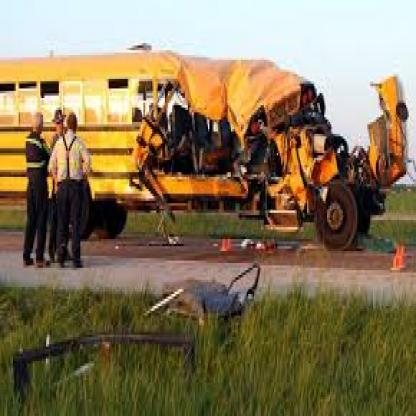accident: (124, 52, 412, 258)
